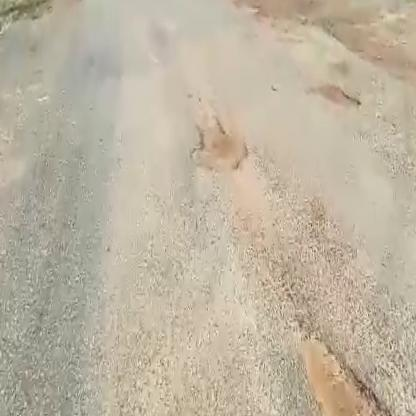pothole: (275, 314, 416, 416), (187, 117, 251, 178), (309, 82, 363, 114)
